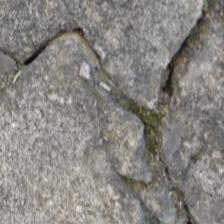Crack: (66, 0, 108, 176), (36, 54, 70, 164)
